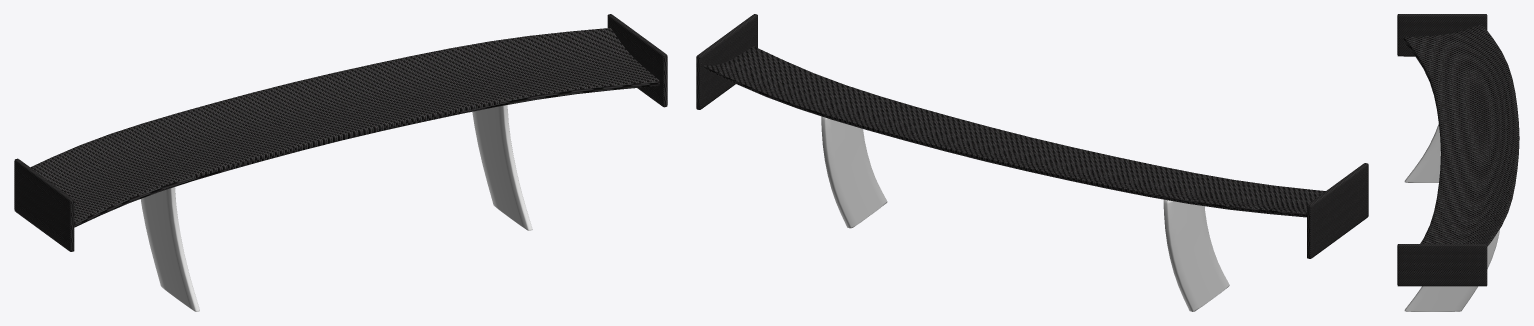
File: universal_spoiler_2.glb
3 views of the same model, side by side, from view 1: azimuth 30°, elevation 25°; view 2: azimuth 150°, elevation 25°; view 3: azimuth 270°, elevation 25° (orthographic). The views are drawn at different scales.
Visible parts, largest first — view 1: Plane; view 2: Plane; view 3: Plane.
Part boxes in pixels (bbox=[...]): Plane: bbox=[14, 14, 667, 311]; Plane: bbox=[696, 14, 1368, 311]; Plane: bbox=[1397, 14, 1519, 311].
Size of the model in its own units: 1.62 by 0.3819 by 0.361.
Materials: 2 (1 with a texture image).
